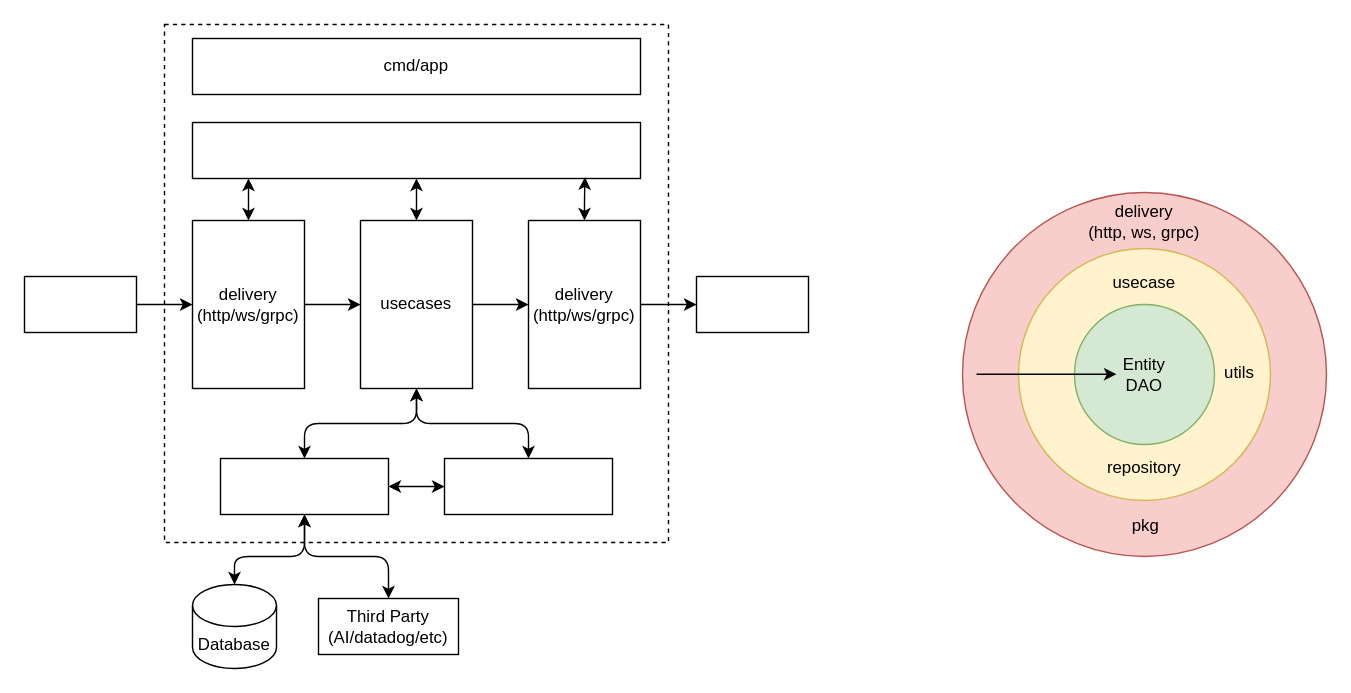
Some shapes in this 1351 by 693 pixel diagram are drawn without their labels. Here are the shapes that lost their labels. From the top down, the centre of each, then its label:
At point 415,149: "presenters".
At point 79,303: "upstream".
At point 751,303: "downstream".
At point 303,485: "repository, utils, pkg".
At point 527,485: "domain".
